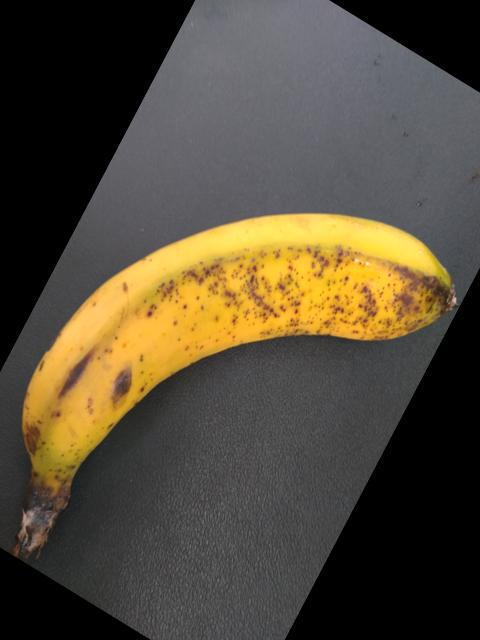ripe: (16, 192, 479, 536)
